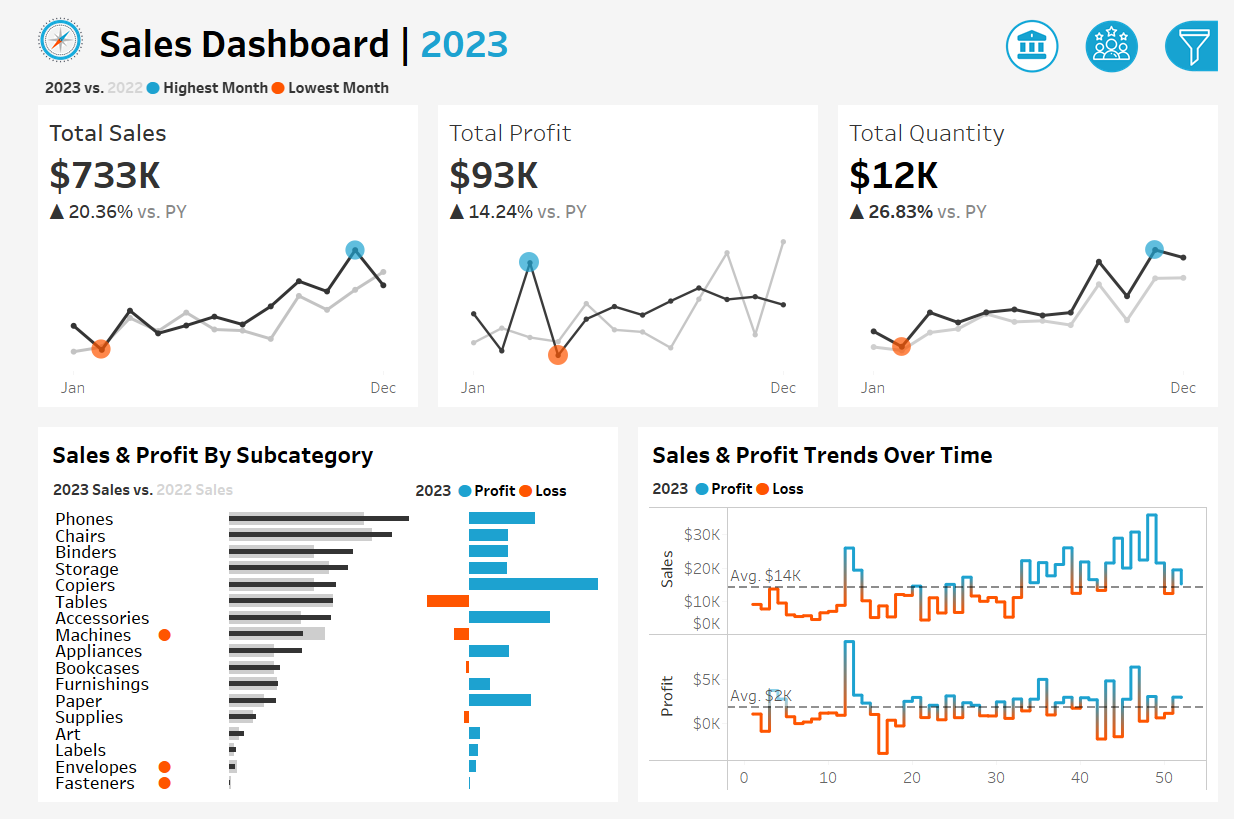

The page's visual inventory and layout, read from the dashboard file:
{"tool":"tableau","page":{"name":"Sales Dashboard","canvas":[1200,800],"ordinal":1},"visuals":[{"type":"image","param":"Image/Icon - Logo.png","box":[0,0,64,59]},{"type":"text","box":[64,0,751,59]},{"type":"dashboard-object","box":[965,3,79,62]},{"type":"dashboard-object","box":[1044,3,79,62]},{"type":"dashboard-object","box":[1123,3,79,62]},{"type":"blank","box":[971,19,205,65]},{"type":"worksheet","title":"Legend KPI","mark":"Automatic","box":[0,59,1200,34]},{"type":"text","box":[971,84,205,54]},{"type":"worksheet","title":"KPI Sales","mark":"Automatic","rows":["Calculation_619526428342210565"],"cols":["Order Date"],"box":[0,93,400,312]},{"type":"worksheet","title":"KPI Profit","mark":"Automatic","rows":["Calculation_619526428371218446"],"cols":["Order Date"],"box":[400,93,400,312]},{"type":"worksheet","title":"KPI Quantity","mark":"Line","rows":["Calculation_619526428394790932"],"cols":["Order Date"],"box":[800,93,400,312]},{"type":"parameter","param":"[Parameters].[Parameter 1]","box":[971,138,205,74]},{"type":"blank","box":[971,212,205,32]},{"type":"text","box":[971,244,205,49]},{"type":"filter","title":"KPI Sales","param":"[federated.1o5c1vx1cywj4w175k7bt11e6ii7].[none:Category:nk]","box":[971,293,205,61]},{"type":"filter","title":"KPI Sales","param":"[federated.1o5c1vx1cywj4w175k7bt11e6ii7].[none:Sub-Category:nk]","box":[971,354,205,89]},{"type":"text","box":[17,422,566,40]},{"type":"text","box":[617,422,566,40]},{"type":"text","box":[971,443,205,67]},{"type":"worksheet","title":"Legend Subcategory","mark":"Automatic","box":[17,462,363,32]},{"type":"text","box":[380,462,203,32]},{"type":"text","box":[617,462,566,29]},{"type":"worksheet","title":"Weekly Trends","mark":"Automatic","rows":["Calculation_619526428335955968","Calculation_619526428367527946"],"cols":["Order Date"],"box":[617,491,566,292]},{"type":"worksheet","title":"Subcategory Comparisons","mark":"Bar","rows":["Sub-Category","Calculation_619526428412403735"],"cols":["Prev. Year Sales (copy)_619526428336627713","Calculation_619526428335955968","Calculation_619526428367527946"],"box":[17,494,566,289]},{"type":"filter","title":"KPI Sales","param":"[federated.1o5c1vx1cywj4w175k7bt11e6ii7].[none:Region:nk]","box":[971,510,205,61]},{"type":"filter","title":"KPI Sales","param":"[federated.1o5c1vx1cywj4w175k7bt11e6ii7].[none:State:nk]","box":[971,571,205,61]},{"type":"filter","title":"KPI Sales","param":"[federated.1o5c1vx1cywj4w175k7bt11e6ii7].[none:City:nk]","box":[971,632,205,80]}]}

Visuals, with their boxes in screenshot pixels (x1, y1, x2, y2), scaled from the page's 1200x800 canvas onto the 1234x819 screenshot:
image: 0, 0, 66, 60
text: 66, 0, 838, 60
dashboard-object: 992, 3, 1074, 67
dashboard-object: 1074, 3, 1155, 67
dashboard-object: 1155, 3, 1233, 67
blank: 999, 19, 1209, 86
"Legend KPI" worksheet: 0, 60, 1233, 95
text: 999, 86, 1209, 141
"KPI Sales" worksheet: 0, 95, 411, 415
"KPI Profit" worksheet: 411, 95, 823, 415
"KPI Quantity" worksheet (Line marks): 823, 95, 1233, 415
parameter: 999, 141, 1209, 217
blank: 999, 217, 1209, 250
text: 999, 250, 1209, 300
"KPI Sales" filter: 999, 300, 1209, 362
"KPI Sales" filter: 999, 362, 1209, 454
text: 17, 432, 600, 473
text: 634, 432, 1217, 473
text: 999, 454, 1209, 522
"Legend Subcategory" worksheet: 17, 473, 391, 506
text: 391, 473, 600, 506
text: 634, 473, 1217, 503
"Weekly Trends" worksheet: 634, 503, 1217, 802
"Subcategory Comparisons" worksheet (Bar marks): 17, 506, 600, 802
"KPI Sales" filter: 999, 522, 1209, 585
"KPI Sales" filter: 999, 585, 1209, 647
"KPI Sales" filter: 999, 647, 1209, 729
